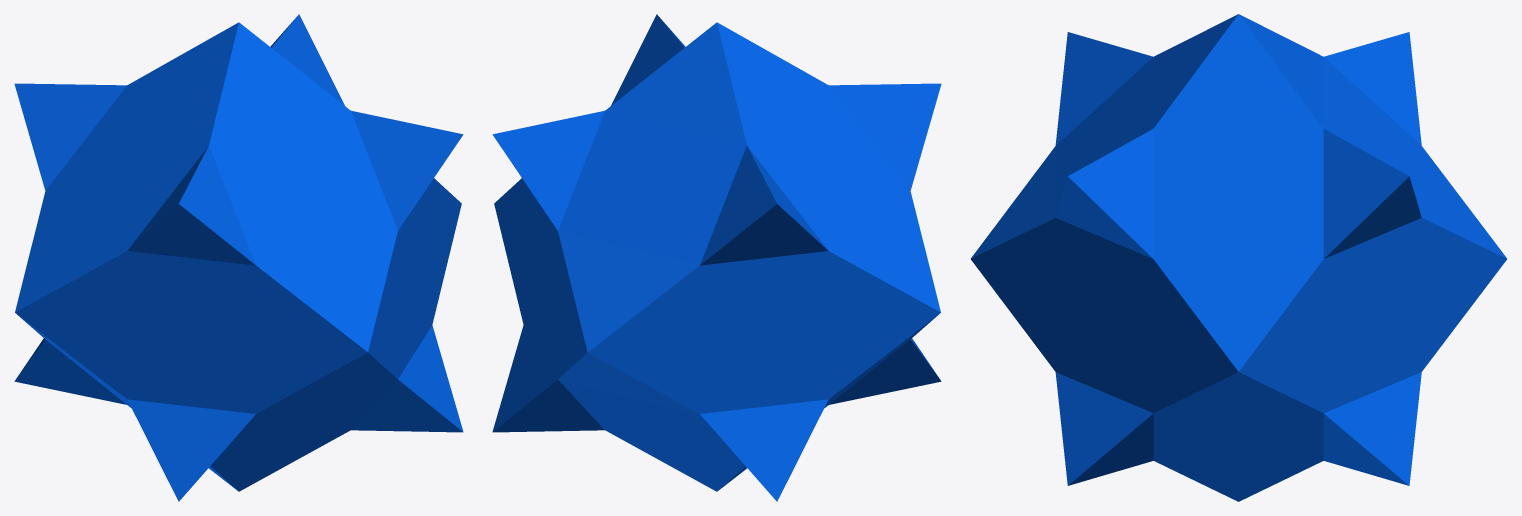
File: DamageTrap.fbx
The picture shows the model from 3 angles, left to right: view 1: azimuth 30°, elevation 25°; view 2: azimuth 150°, elevation 25°; view 3: azimuth 270°, elevation 25°; orthographic projection. The views are drawn at different scales.
Parts seen in each view (by area): view 1: DamageObject; view 2: DamageObject; view 3: DamageObject.
Part boxes in pixels (x1,y1,x2,y2): DamageObject: (14,14,463,501); DamageObject: (492,14,941,501); DamageObject: (971,14,1506,501).
Bounding box in the file's own units: 14883 × 14942 × 14903.
